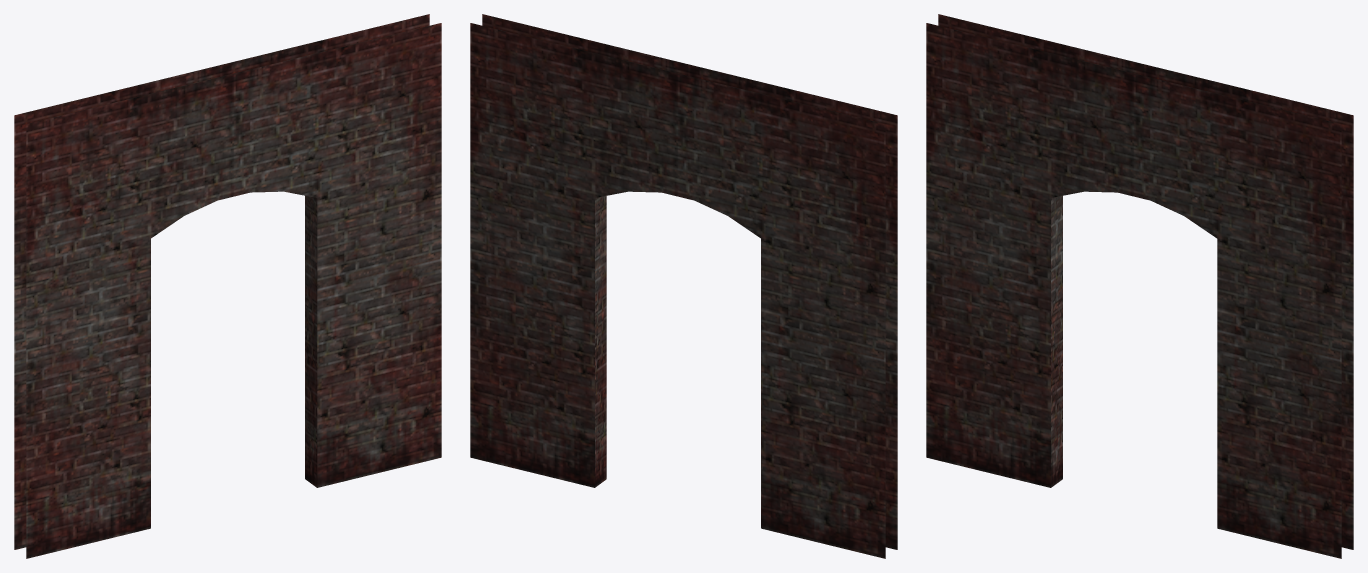
Rendered from wall_brick_archway_2.obj.
3 views of the same model, side by side, from view 1: azimuth 30°, elevation 25°; view 2: azimuth 150°, elevation 25°; view 3: azimuth 330°, elevation 25° (orthographic).
Visible parts, largest first — view 1: Wall_Archway_Cap.001; view 2: Wall_Archway_Cap.001; view 3: Wall_Archway_Cap.001.
Part boxes in pixels (left/top/right/bottom): Wall_Archway_Cap.001: left=14, top=14, right=441, bottom=558; Wall_Archway_Cap.001: left=470, top=14, right=897, bottom=558; Wall_Archway_Cap.001: left=926, top=14, right=1353, bottom=558.
Bounding box in the file's own units: 3 × 3 × 0.15.
1 material, 1 textured.
